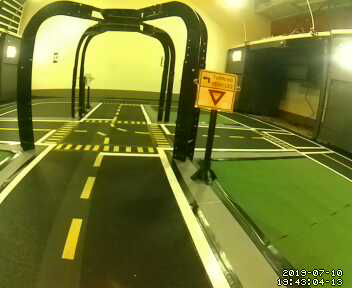Turn Yield: (193, 66, 237, 116)
